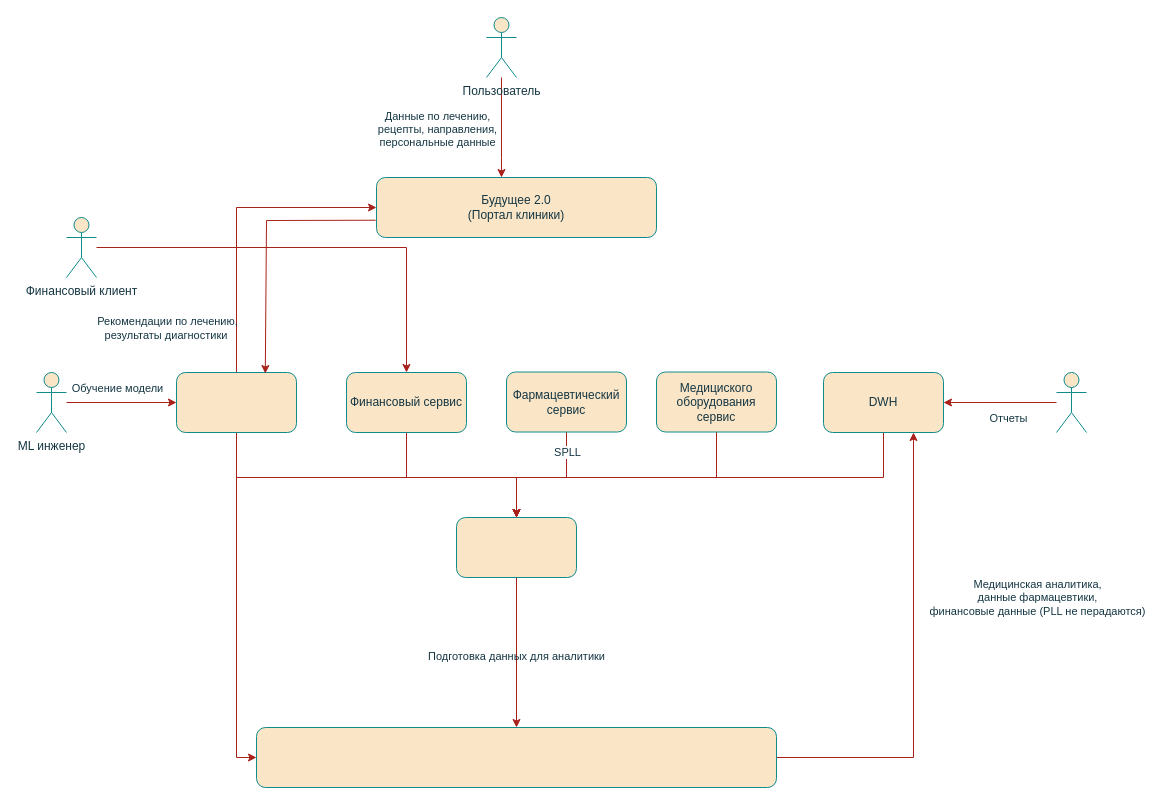
The diagram is 1162 pixels wide and 805 high, and some of its shapes have lost their labels. Each missing label, with the centre of its shape:
"Data Hub" belongs at point (516, 757).
"Аналитик" belongs at point (1071, 402).
"Интеграционная шина" belongs at point (516, 547).
"Сервисы ИИ" belongs at point (236, 402).
